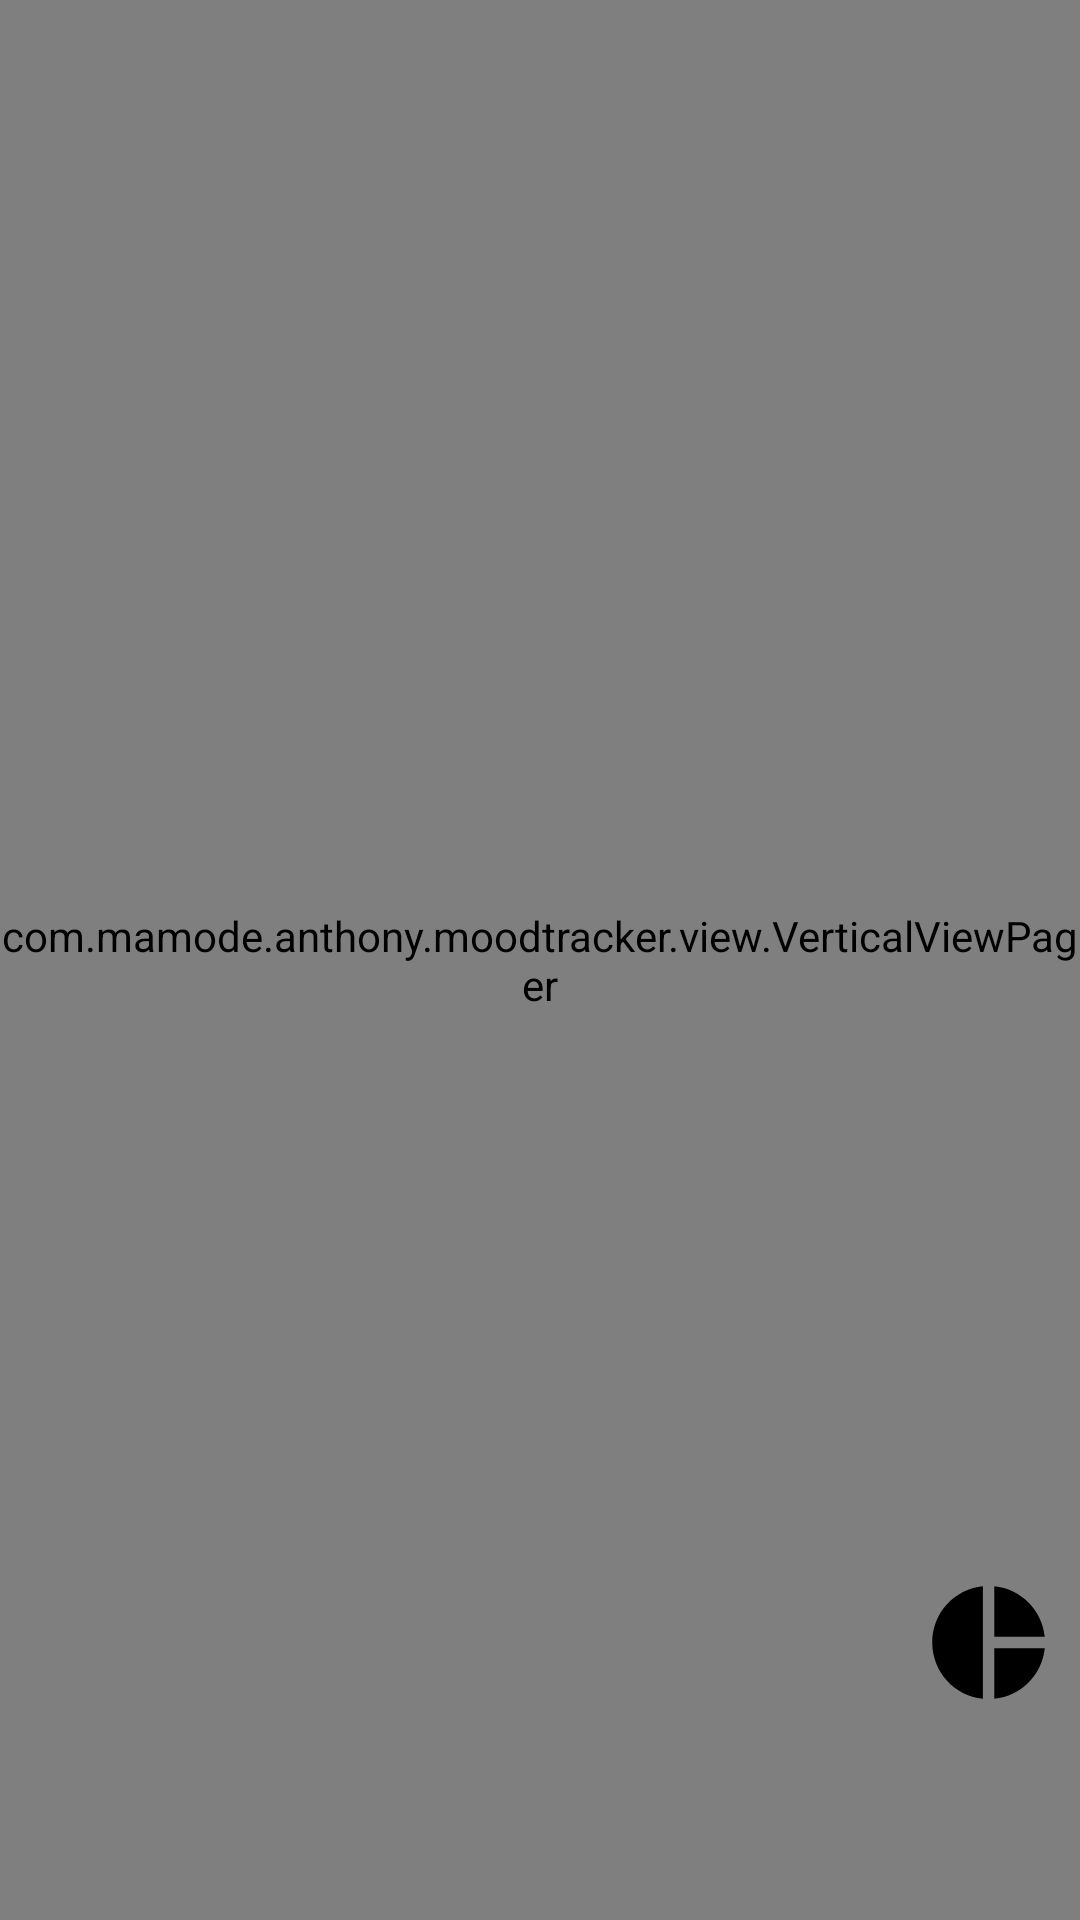

Named icons in this screenshot (1080px×1920px) and their centers, point (x, y):
Statistics Button: point (988, 1642)
